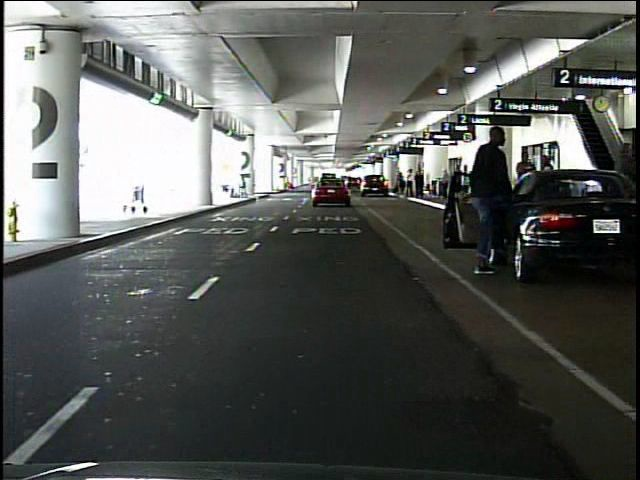person: (471, 126, 519, 281), (579, 141, 638, 229), (511, 150, 540, 222), (538, 154, 557, 221), (404, 168, 415, 200), (416, 170, 426, 200), (440, 169, 450, 199), (397, 172, 406, 197), (284, 175, 294, 192)
